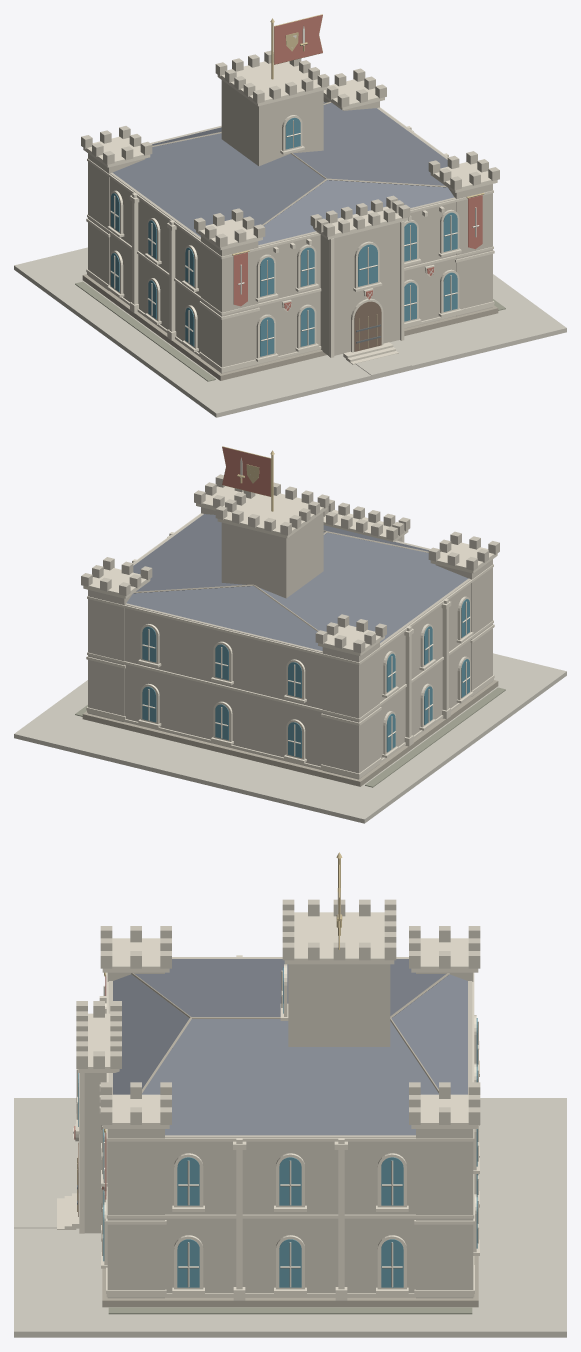
Rendered from WarriorAcademy_Lv3.fbx.
The picture shows the model from 3 angles, top to bottom: view 1: azimuth 30°, elevation 25°; view 2: azimuth 150°, elevation 25°; view 3: azimuth 270°, elevation 25°; orthographic projection. The views are drawn at different scales.
Parts seen in each view (by area): view 1: Slate hip roof.005, Fixed 26m plot.015, Main school walls.015, Corner bastion.003, Merlons.004, Window glass.015, Projecting entrance bay.015, Battlement cornice.004, Central command tower.004, Window frame.015, Stone stringcourse.015, School foundation.015 (+12 smaller); view 2: Main school walls.015, Slate hip roof.005, Fixed 26m plot.015, Corner bastion.003, Merlons.004, Central command tower.004, Battlement cornice.004, Window glass.015, Stone stringcourse.015, School foundation.015, Window frame.015, School icon flag cloth.015 (+6 smaller); view 3: Fixed 26m plot.015, Slate hip roof.005, Main school walls.015, Corner bastion.003, Battlement cornice.004, Merlons.004, Central command tower.004, Window glass.015, Stone stringcourse.015, Window frame.015, School foundation.015, Grass edging.015 (+9 smaller).
Boxes of the visible parts, x1=… form: Slate hip roof.005: x1=112, y1=102, x2=453, y2=244; Fixed 26m plot.015: x1=14, y1=247, x2=566, y2=417; Main school walls.015: x1=109, y1=102, x2=456, y2=364; Corner bastion.003: x1=88, y1=97, x2=492, y2=373; Merlons.004: x1=81, y1=50, x2=499, y2=247; Window glass.015: x1=111, y1=117, x2=457, y2=356; Projecting entrance bay.015: x1=320, y1=222, x2=399, y2=355; Battlement cornice.004: x1=83, y1=61, x2=497, y2=250; Central command tower.004: x1=221, y1=80, x2=323, y2=166; Window frame.015: x1=110, y1=115, x2=459, y2=358; Stone stringcourse.015: x1=87, y1=107, x2=493, y2=372; School foundation.015: x1=82, y1=274, x2=498, y2=380; Main school walls.015: x1=124, y1=513, x2=471, y2=770; Slate hip roof.005: x1=126, y1=514, x2=468, y2=650; Fixed 26m plot.015: x1=14, y1=653, x2=566, y2=823; Corner bastion.003: x1=88, y1=507, x2=492, y2=779; Merlons.004: x1=81, y1=474, x2=499, y2=653; Central command tower.004: x1=221, y1=512, x2=323, y2=598; Battlement cornice.004: x1=83, y1=486, x2=497, y2=655; Window glass.015: x1=142, y1=599, x2=469, y2=757; Stone stringcourse.015: x1=87, y1=513, x2=493, y2=778; School foundation.015: x1=82, y1=680, x2=498, y2=786; Window frame.015: x1=140, y1=596, x2=470, y2=759; School icon flag cloth.015: x1=222, y1=447, x2=270, y2=496; Fixed 26m plot.015: x1=14, y1=1098, x2=566, y2=1337; Slate hip roof.005: x1=113, y1=959, x2=467, y2=1135; Main school walls.015: x1=108, y1=957, x2=472, y2=1297; Corner bastion.003: x1=107, y1=972, x2=473, y2=1298; Battlement cornice.004: x1=78, y1=912, x2=478, y2=1128; Merlons.004: x1=76, y1=899, x2=480, y2=1124; Central command tower.004: x1=288, y1=964, x2=390, y2=1046; Window glass.015: x1=78, y1=967, x2=477, y2=1287; Stone stringcourse.015: x1=106, y1=957, x2=474, y2=1297; Window frame.015: x1=104, y1=964, x2=476, y2=1289; School foundation.015: x1=102, y1=1256, x2=478, y2=1307; Grass edging.015: x1=108, y1=1307, x2=472, y2=1314.
Bounding box in the file's own units: 26 × 19.09 × 26.
